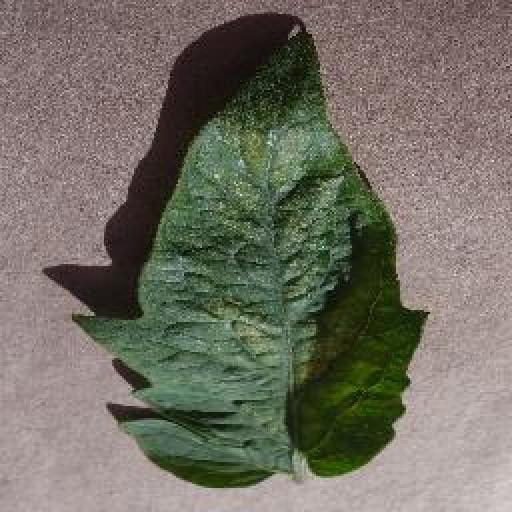Spider Mites: (69, 31, 432, 489)
